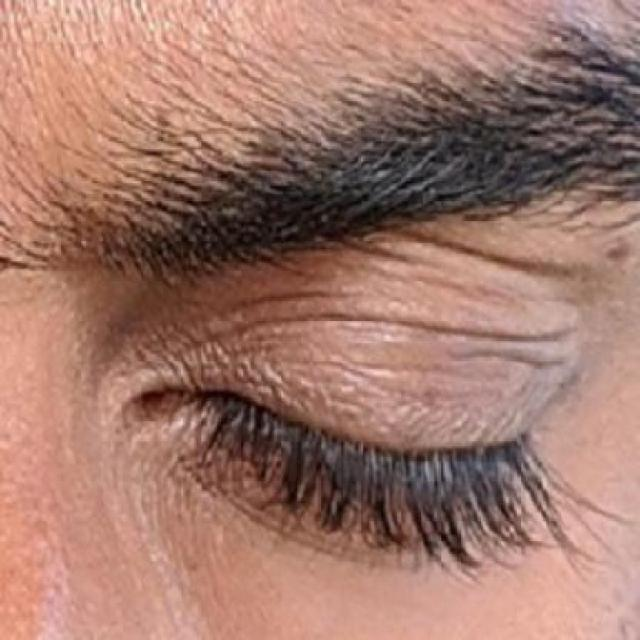drowsy: (120, 275, 563, 639)
